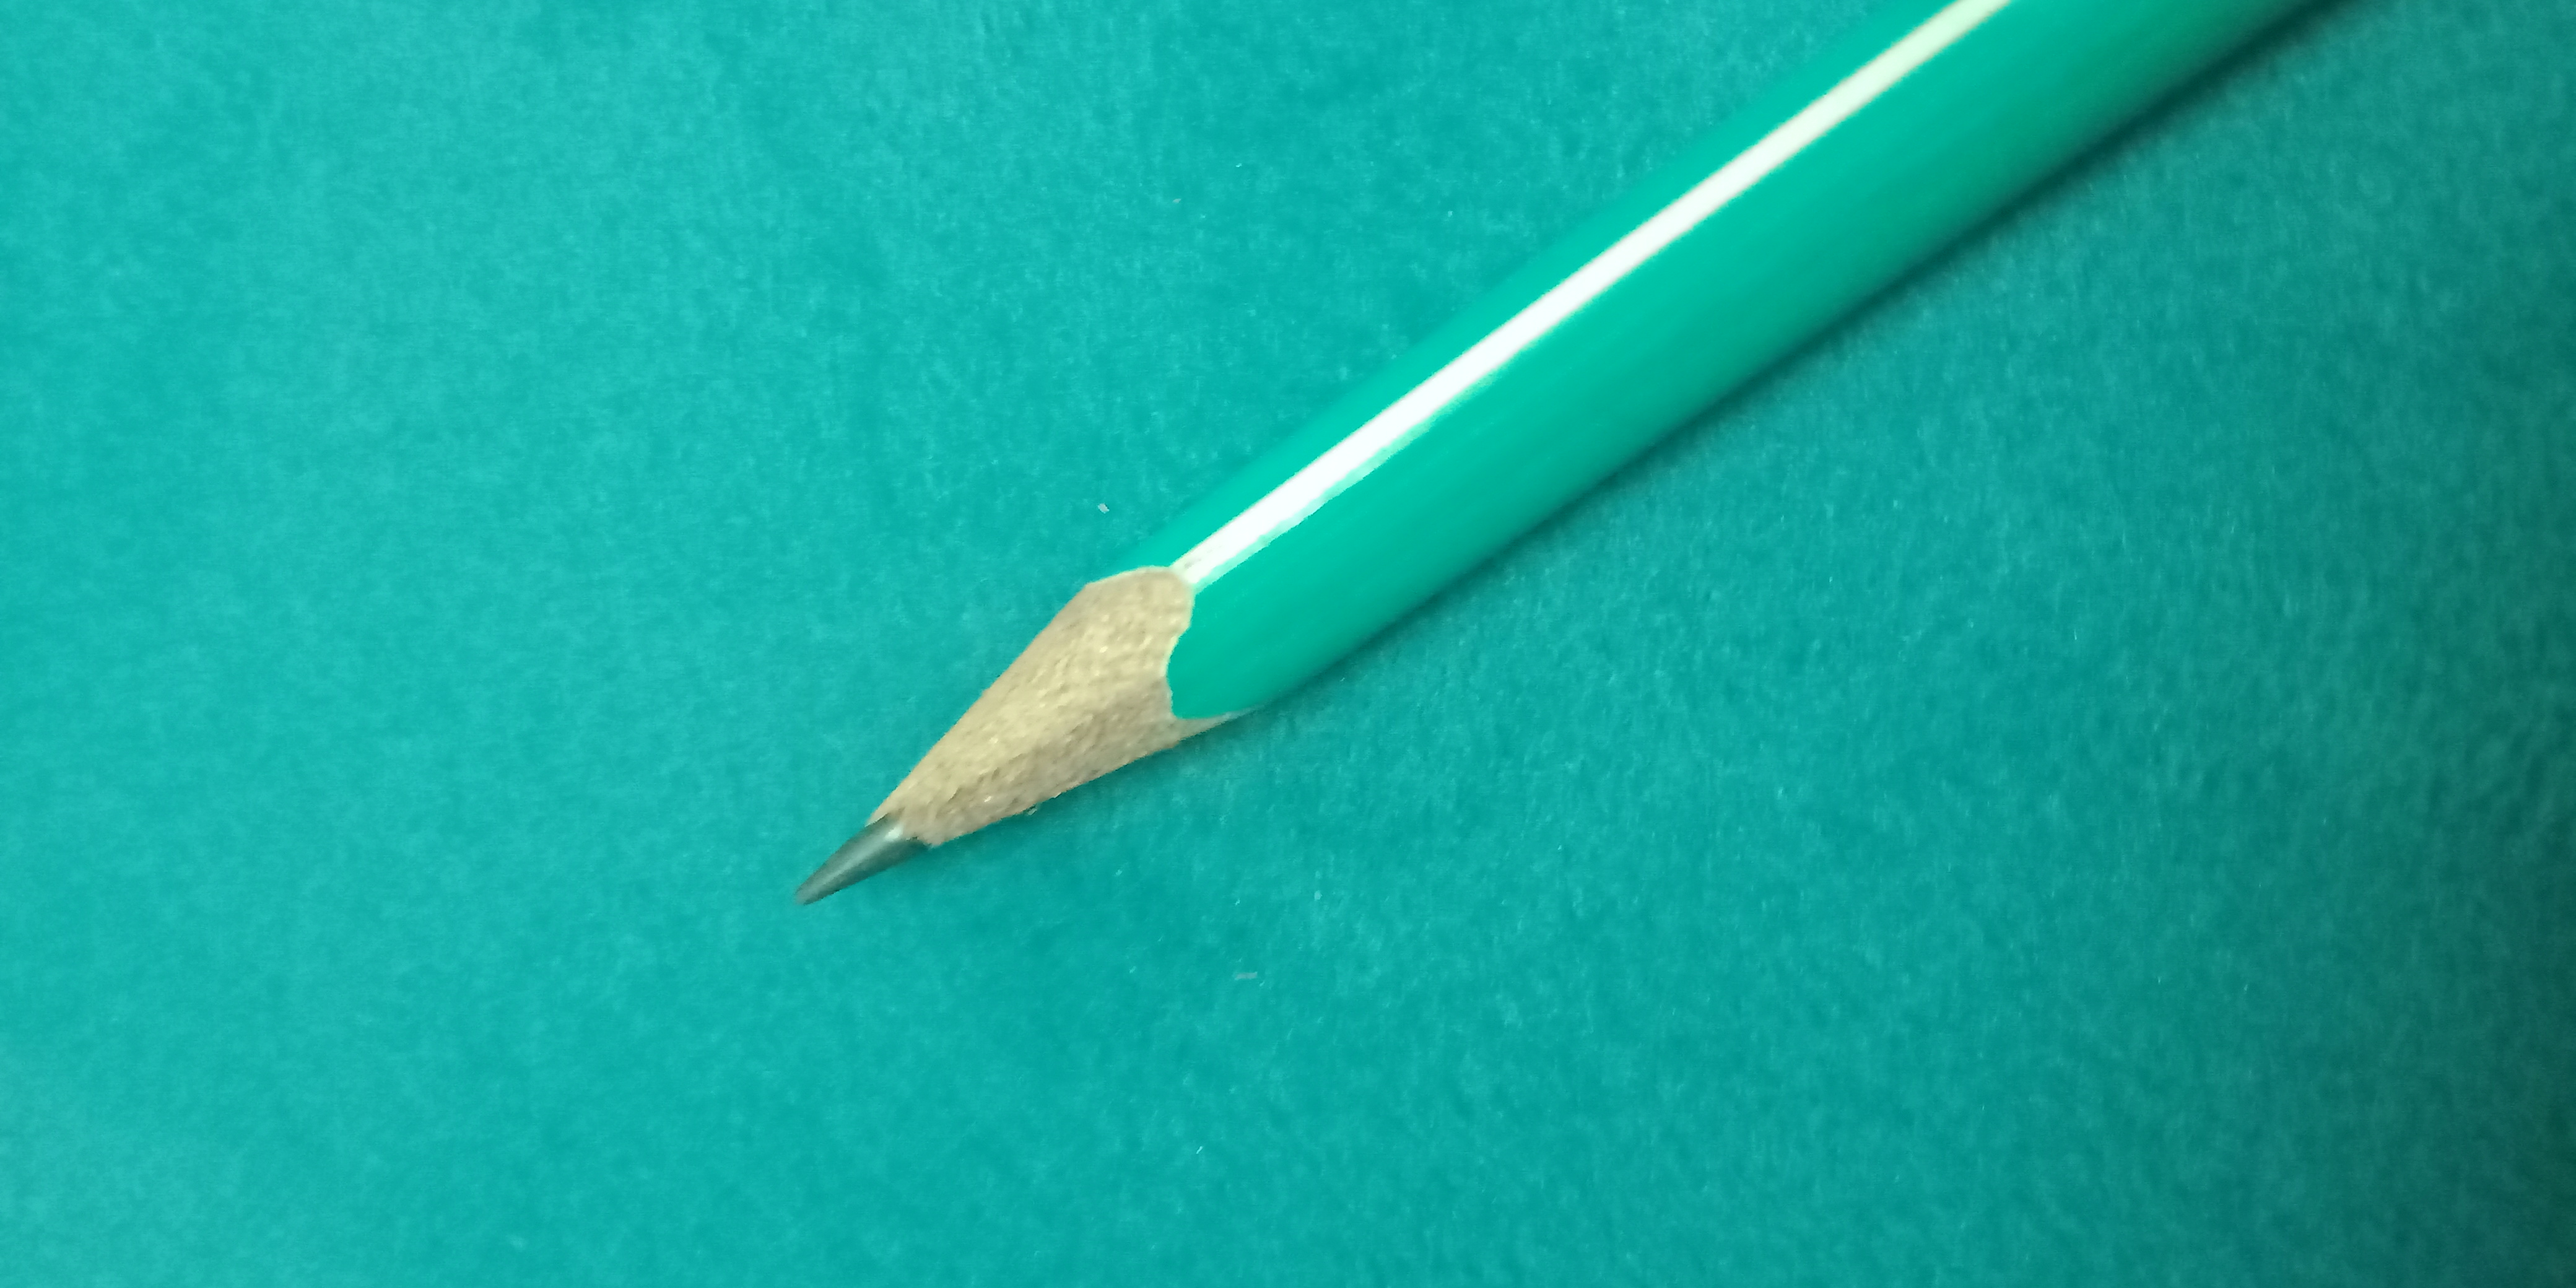pen_tip: (708, 485, 1411, 961)
